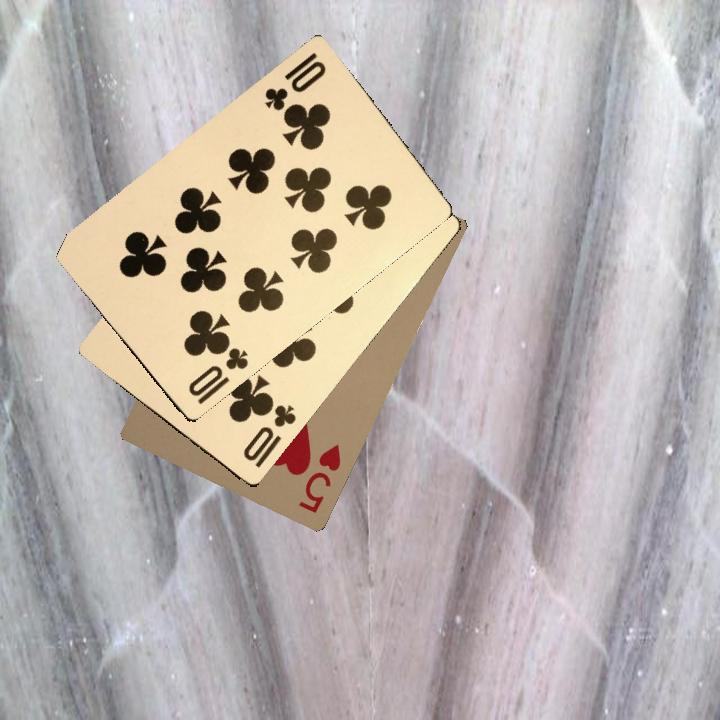10c: (260, 48, 329, 114), (184, 343, 251, 407), (239, 400, 299, 470)
5h: (295, 440, 344, 516)
